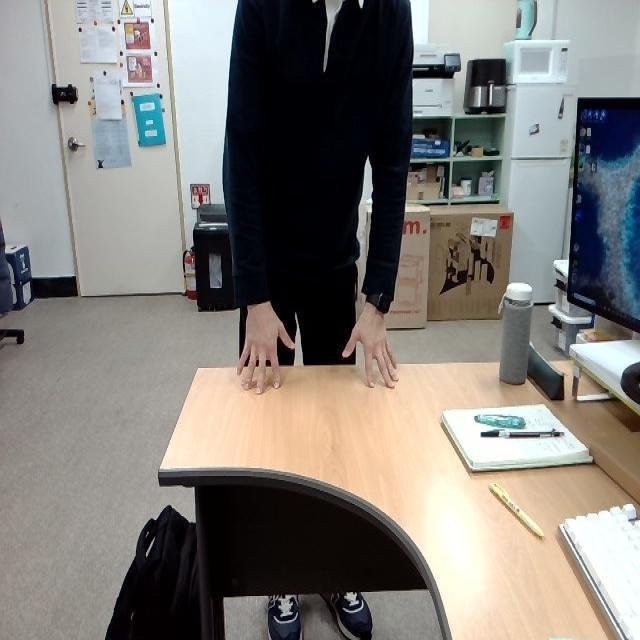bare_hand: (229, 291, 301, 402), (335, 283, 402, 395)
